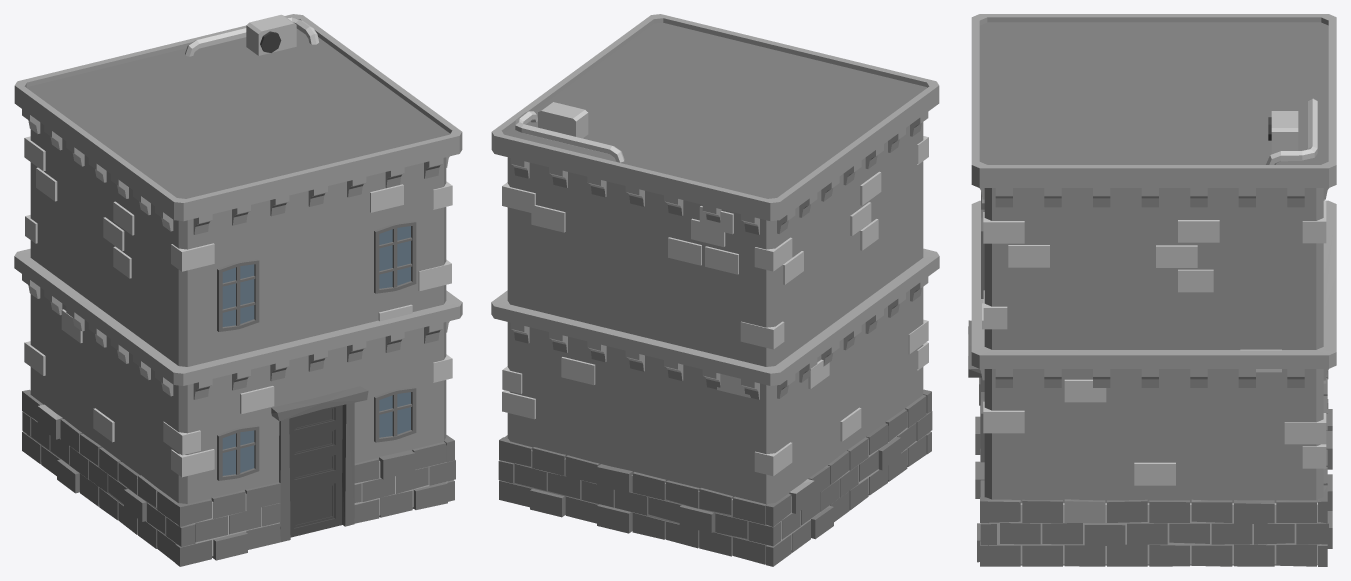
File: qtb_2story_2.fbx
The picture shows the model from 3 angles, left to right: view 1: azimuth 30°, elevation 25°; view 2: azimuth 150°, elevation 25°; view 3: azimuth 270°, elevation 25°; orthographic projection. The views are drawn at different scales.
Parts seen in each view (by area): view 1: qtb_2story_2_LOD0; view 2: qtb_2story_2_LOD0; view 3: qtb_2story_2_LOD0.
Part boxes in pixels (x1,y1,x2,y2): qtb_2story_2_LOD0: (14, 14, 462, 566); qtb_2story_2_LOD0: (491, 14, 939, 566); qtb_2story_2_LOD0: (968, 14, 1336, 566).
Size of what is drawn, in the model's own units: 5.83 by 7.46 by 5.87.
